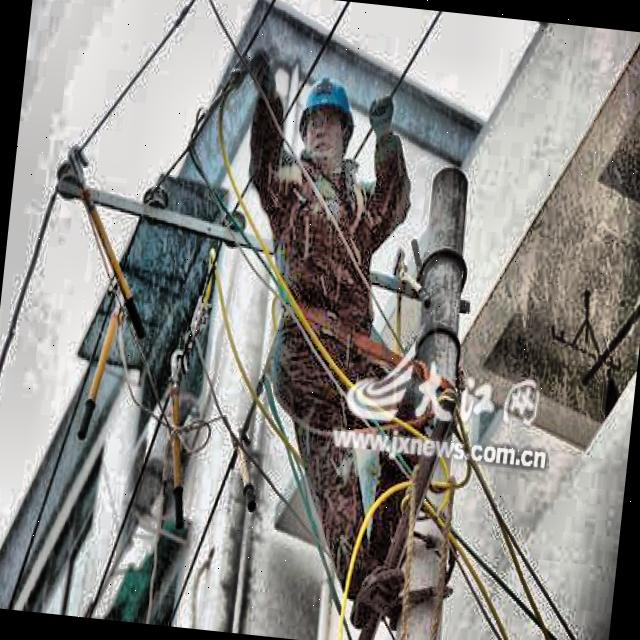helmet: (287, 63, 369, 177)
